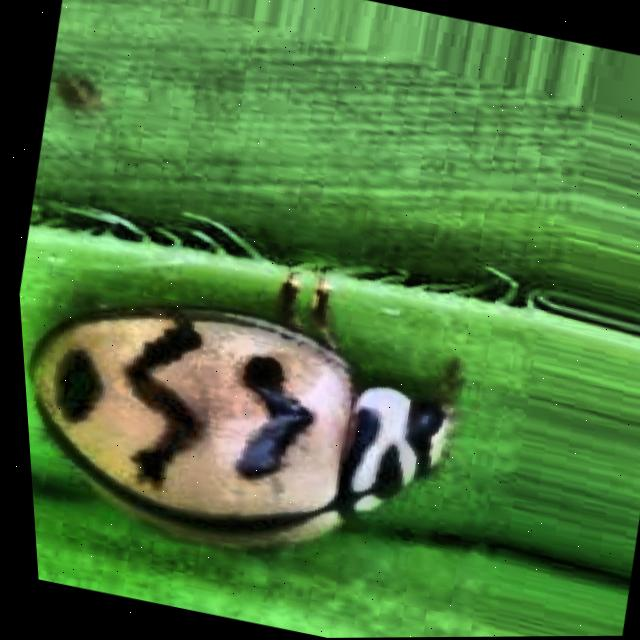Asian-Lady-beetle: (10, 183, 516, 627)
